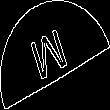M_SE: (32, 23, 78, 87)
